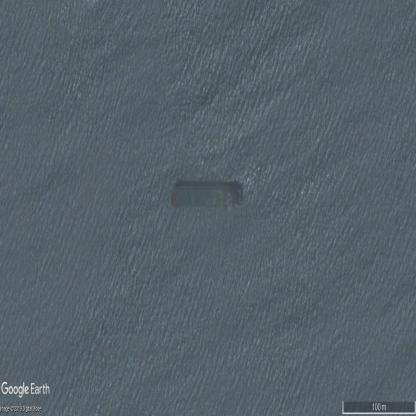ship: (170, 184, 242, 211)
